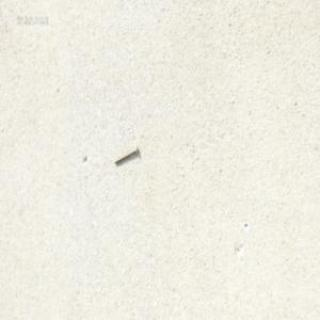Bolttrack_idkeyframe: (113, 144, 138, 164)
